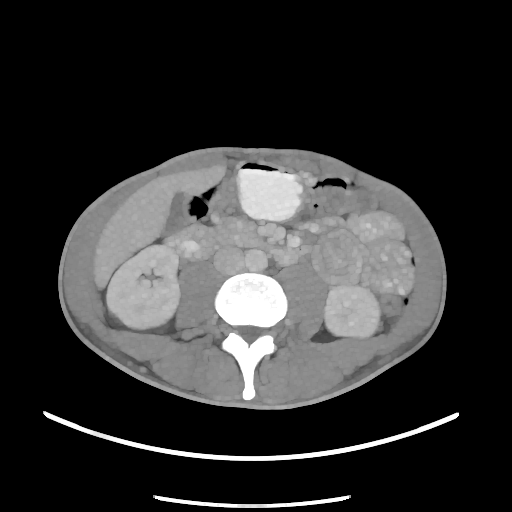Lesion: (375, 319, 385, 334)
